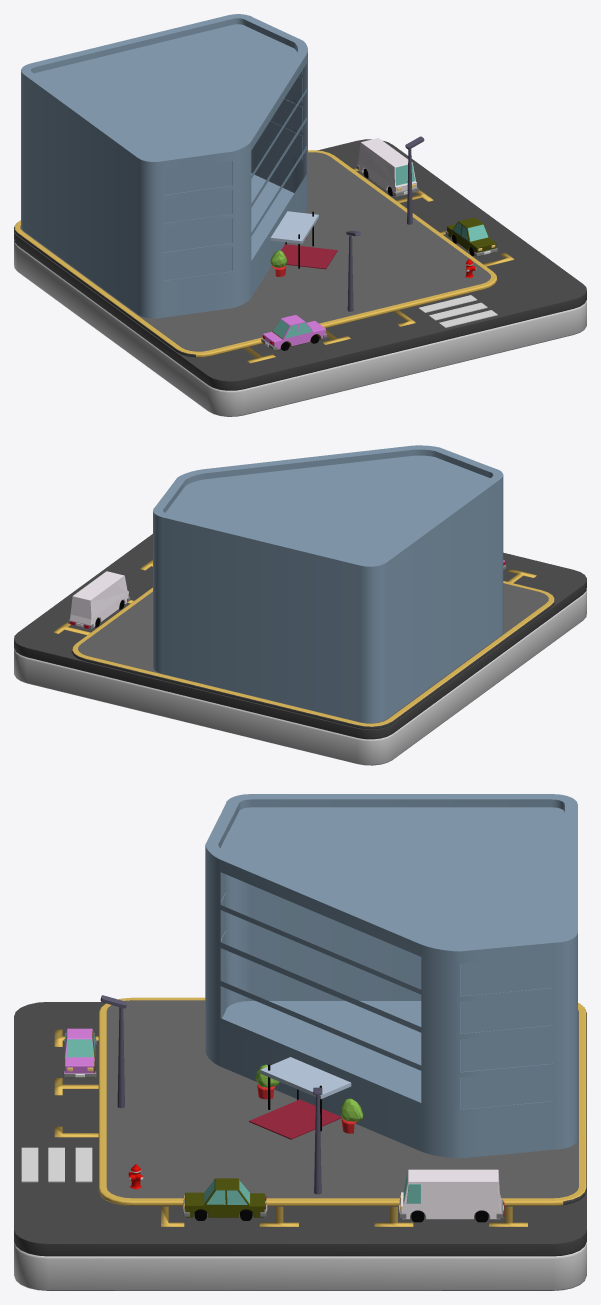
Rendered from record-company_draco.glb.
3 renders of one model, top to bottom at view 1: azimuth 30°, elevation 25°; view 2: azimuth 150°, elevation 25°; view 3: azimuth 270°, elevation 25°, orthographic. The views are drawn at different scales.
Parts seen in each view (by area): view 1: office, concrete, asphalt.001, base, asphalt, Cube, car2, car1, pedestrian-crossing, red-carpet, parking-spot.003; view 2: office, base, concrete, asphalt.001, asphalt, Cube, parking-spot.003; view 3: office, concrete, asphalt.001, base, asphalt, Cube, car1, parking-spot.003, pedestrian-crossing, red-carpet, car2, lamps.001 (+1 smaller).
Part boxes in pixels (x1=…): office: x1=21, y1=14, x2=318, y2=318; concrete: x1=14, y1=150, x2=497, y2=357; asphalt.001: x1=14, y1=139, x2=586, y2=381; base: x1=14, y1=241, x2=586, y2=416; asphalt: x1=14, y1=139, x2=586, y2=390; Cube: x1=356, y1=138, x2=418, y2=196; car2: x1=261, y1=314, x2=327, y2=350; car1: x1=445, y1=217, x2=497, y2=256; pedestrian-crossing: x1=418, y1=295, x2=497, y2=327; red-carpet: x1=281, y1=244, x2=337, y2=269; parking-spot.003: x1=243, y1=168, x2=514, y2=363; office: x1=153, y1=445, x2=503, y2=723; base: x1=14, y1=589, x2=586, y2=765; concrete: x1=71, y1=581, x2=554, y2=729; asphalt.001: x1=14, y1=534, x2=586, y2=729; asphalt: x1=14, y1=554, x2=586, y2=739; Cube: x1=68, y1=571, x2=130, y2=628; parking-spot.003: x1=53, y1=559, x2=536, y2=635; office: x1=205, y1=794, x2=577, y2=1158; concrete: x1=98, y1=997, x2=586, y2=1205; asphalt.001: x1=14, y1=1002, x2=586, y2=1243; base: x1=14, y1=1241, x2=586, y2=1290; asphalt: x1=14, y1=1002, x2=586, y2=1256; Cube: x1=398, y1=1169, x2=504, y2=1222; car1: x1=183, y1=1178, x2=267, y2=1220; parking-spot.003: x1=54, y1=1029, x2=527, y2=1226; pedestrian-crossing: x1=21, y1=1147, x2=92, y2=1182; red-carpet: x1=249, y1=1099, x2=341, y2=1139; car2: x1=63, y1=1028, x2=96, y2=1077; lamps.001: x1=100, y1=995, x2=126, y2=1108.
Size of the model in its own units: 10 by 5 by 10.
